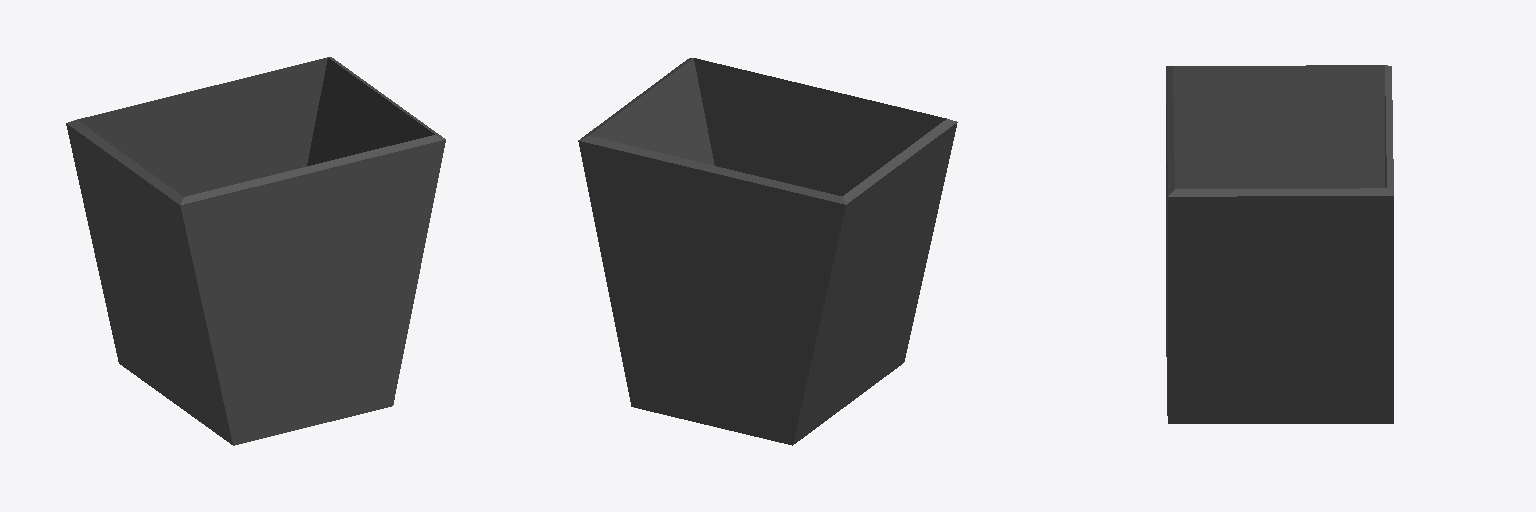
The model's file is cestino.obj.
The picture shows the model from 3 angles: view 1: azimuth 30°, elevation 25°; view 2: azimuth 150°, elevation 25°; view 3: azimuth 270°, elevation 25°; orthographic projection.
Visible parts, largest first — view 1: Cube_Cube.001; view 2: Cube_Cube.001; view 3: Cube_Cube.001.
Boxes of the visible parts, x1,y1,x2,y2 form: Cube_Cube.001: [66, 57, 445, 445]; Cube_Cube.001: [578, 58, 957, 445]; Cube_Cube.001: [1166, 65, 1393, 423].
Bounding box in the file's own units: 1.24 × 1.13 × 0.91.